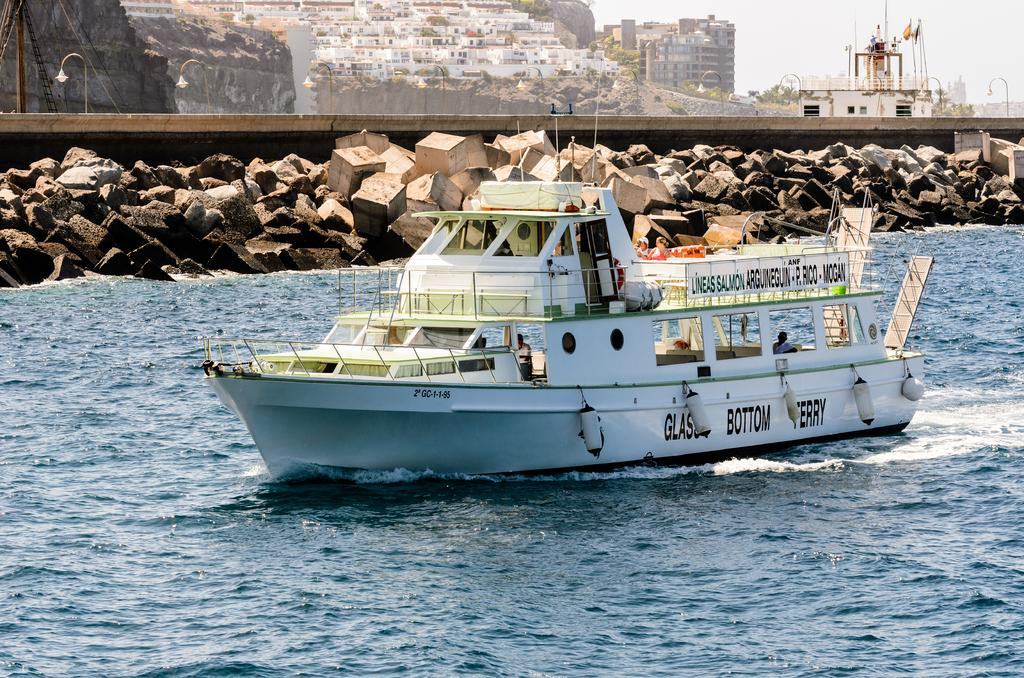PassengerShip: (192, 64, 932, 494)
